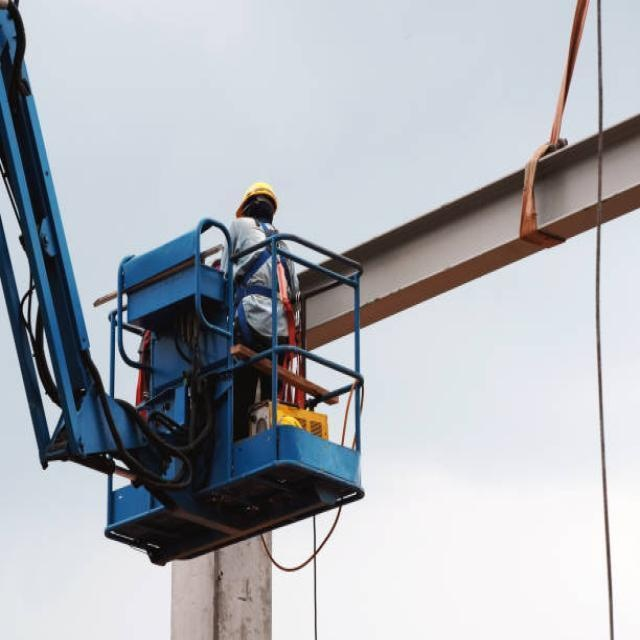Arnes_seguridad: (235, 222, 299, 360)
